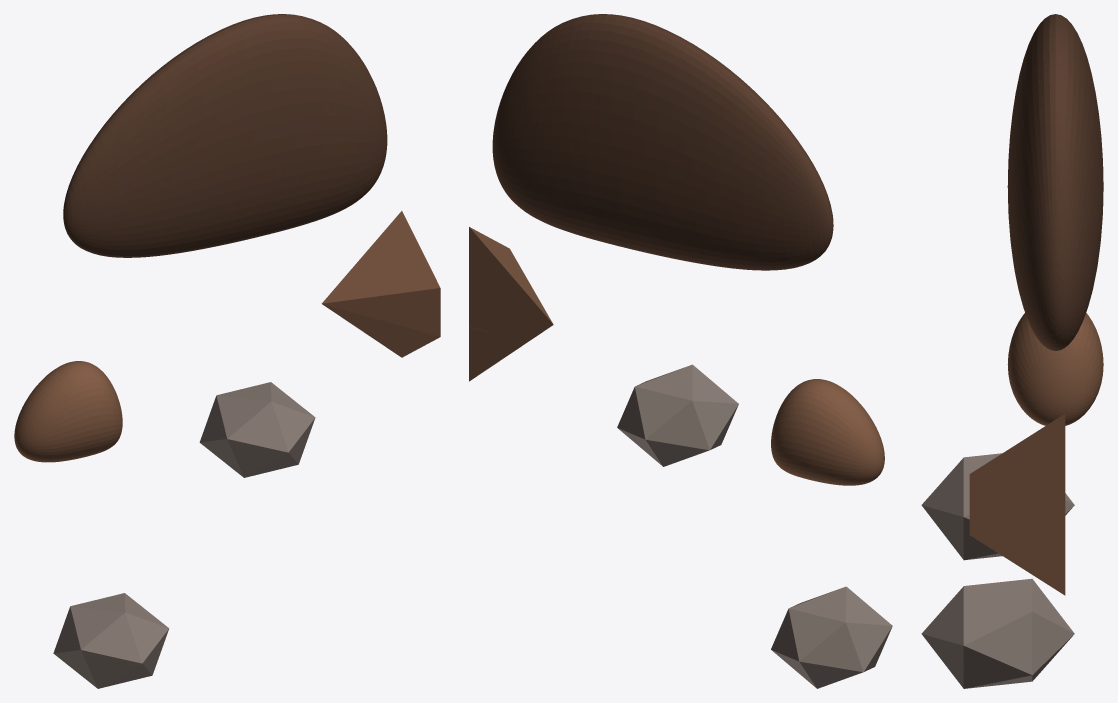
File: RockFormation_01.glb
3 renders of one model, left to right at view 1: azimuth 30°, elevation 25°; view 2: azimuth 150°, elevation 25°; view 3: azimuth 270°, elevation 25°, orthographic. The views are drawn at different scales.
Parts seen in each view (by area): view 1: node_id5; view 2: node_id5; view 3: node_id5.
Boxes of the visible parts, <box> form: node_id5: <box>14,14,440,688</box>; node_id5: <box>469,14,892,688</box>; node_id5: <box>921,14,1103,688</box>.
Size of the model in its own units: 0.3453 by 0.512 by 0.1132.
Materials: 1 (1 with a texture image).
